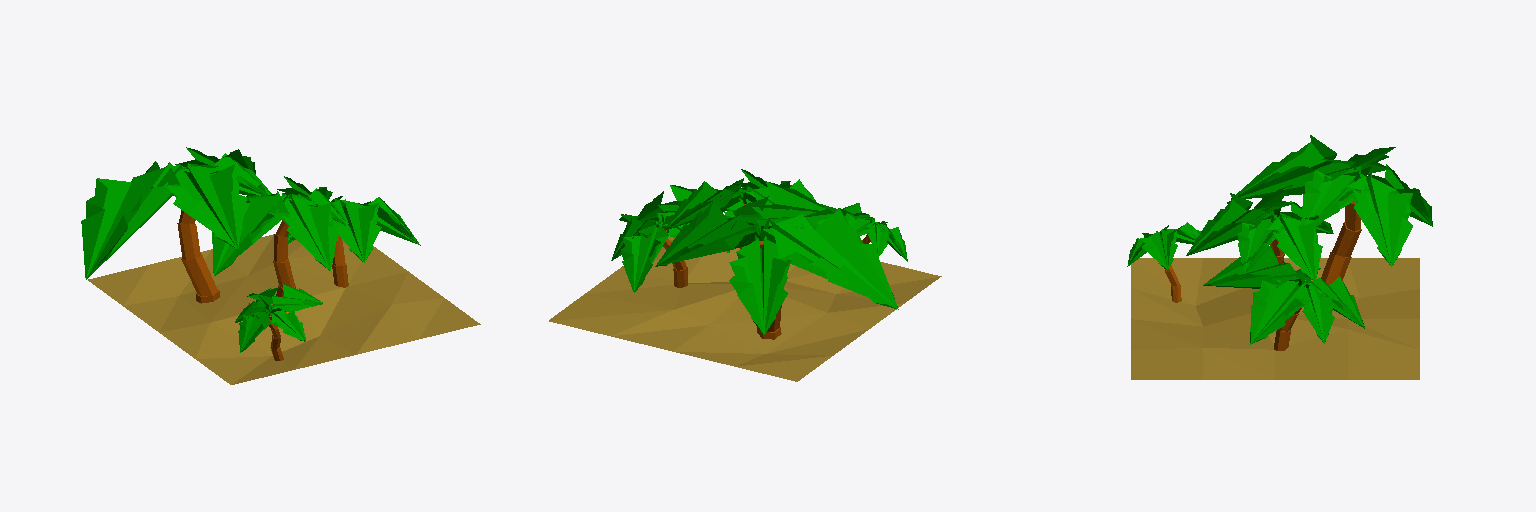
The model's file is palmtrees0.obj.
3 renders of one model, left to right at view 1: azimuth 30°, elevation 25°; view 2: azimuth 150°, elevation 25°; view 3: azimuth 270°, elevation 25°, orthographic.
Visible parts, largest first — view 1: Plane_Plane.005, Tree.002_Cylinder.002, Tree_Cylinder, Tree.001_Cylinder.001, Tree.003_Cylinder.003; view 2: Plane_Plane.005, Tree.002_Cylinder.002, Tree.001_Cylinder.001, Tree_Cylinder, Tree.003_Cylinder.003; view 3: Plane_Plane.005, Tree.002_Cylinder.002, Tree.001_Cylinder.001, Tree_Cylinder, Tree.003_Cylinder.003.
Part boxes in pixels (bbox=[...]): Plane_Plane.005: bbox=[88, 234, 480, 384]; Tree.002_Cylinder.002: bbox=[81, 147, 271, 303]; Tree_Cylinder: bbox=[212, 176, 350, 296]; Tree.001_Cylinder.001: bbox=[288, 196, 420, 287]; Tree.003_Cylinder.003: bbox=[235, 284, 322, 360]; Plane_Plane.005: bbox=[549, 233, 941, 381]; Tree.002_Cylinder.002: bbox=[655, 181, 898, 339]; Tree.001_Cylinder.001: bbox=[611, 185, 729, 292]; Tree_Cylinder: bbox=[664, 169, 829, 248]; Tree.003_Cylinder.003: bbox=[838, 203, 907, 261]; Plane_Plane.005: bbox=[1131, 258, 1419, 379]; Tree.002_Cylinder.002: bbox=[1236, 135, 1432, 284]; Tree.001_Cylinder.001: bbox=[1203, 246, 1364, 350]; Tree_Cylinder: bbox=[1186, 185, 1333, 279]; Tree.003_Cylinder.003: bbox=[1127, 222, 1214, 302].
Size of the model in its own units: 19.68 by 10.71 by 17.3.